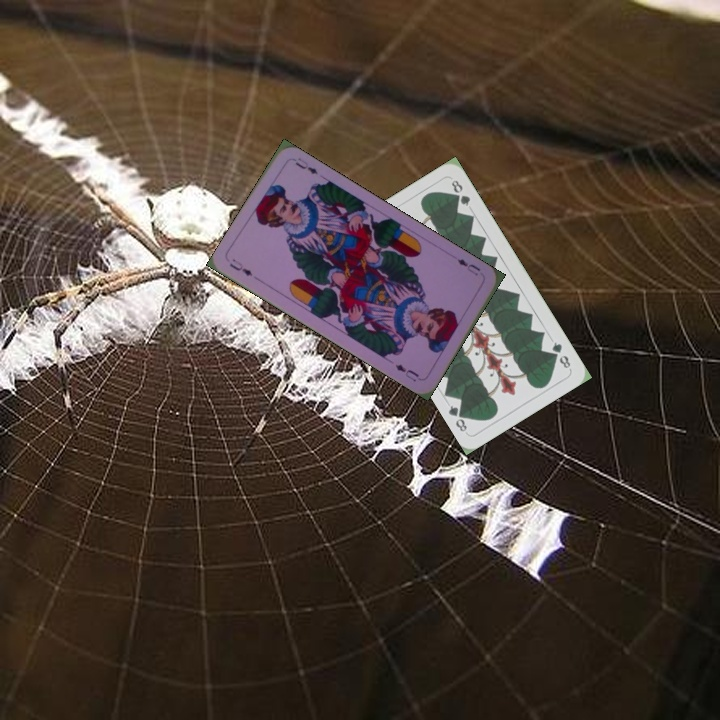EU: (453, 254, 483, 278), (225, 255, 255, 279)
G8: (548, 338, 573, 372)
